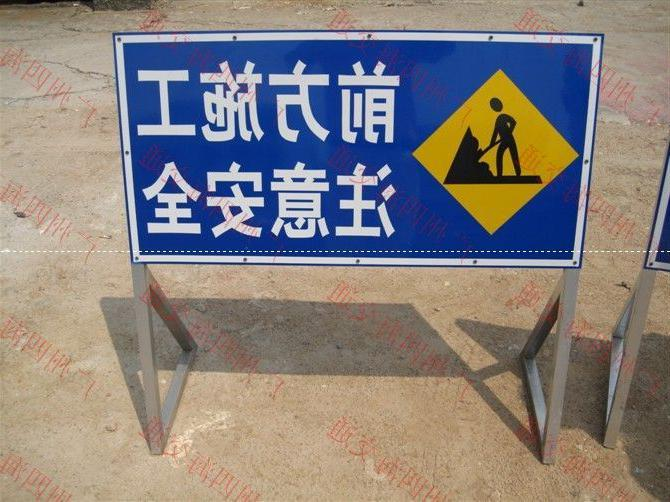sign: (110, 27, 603, 272)
